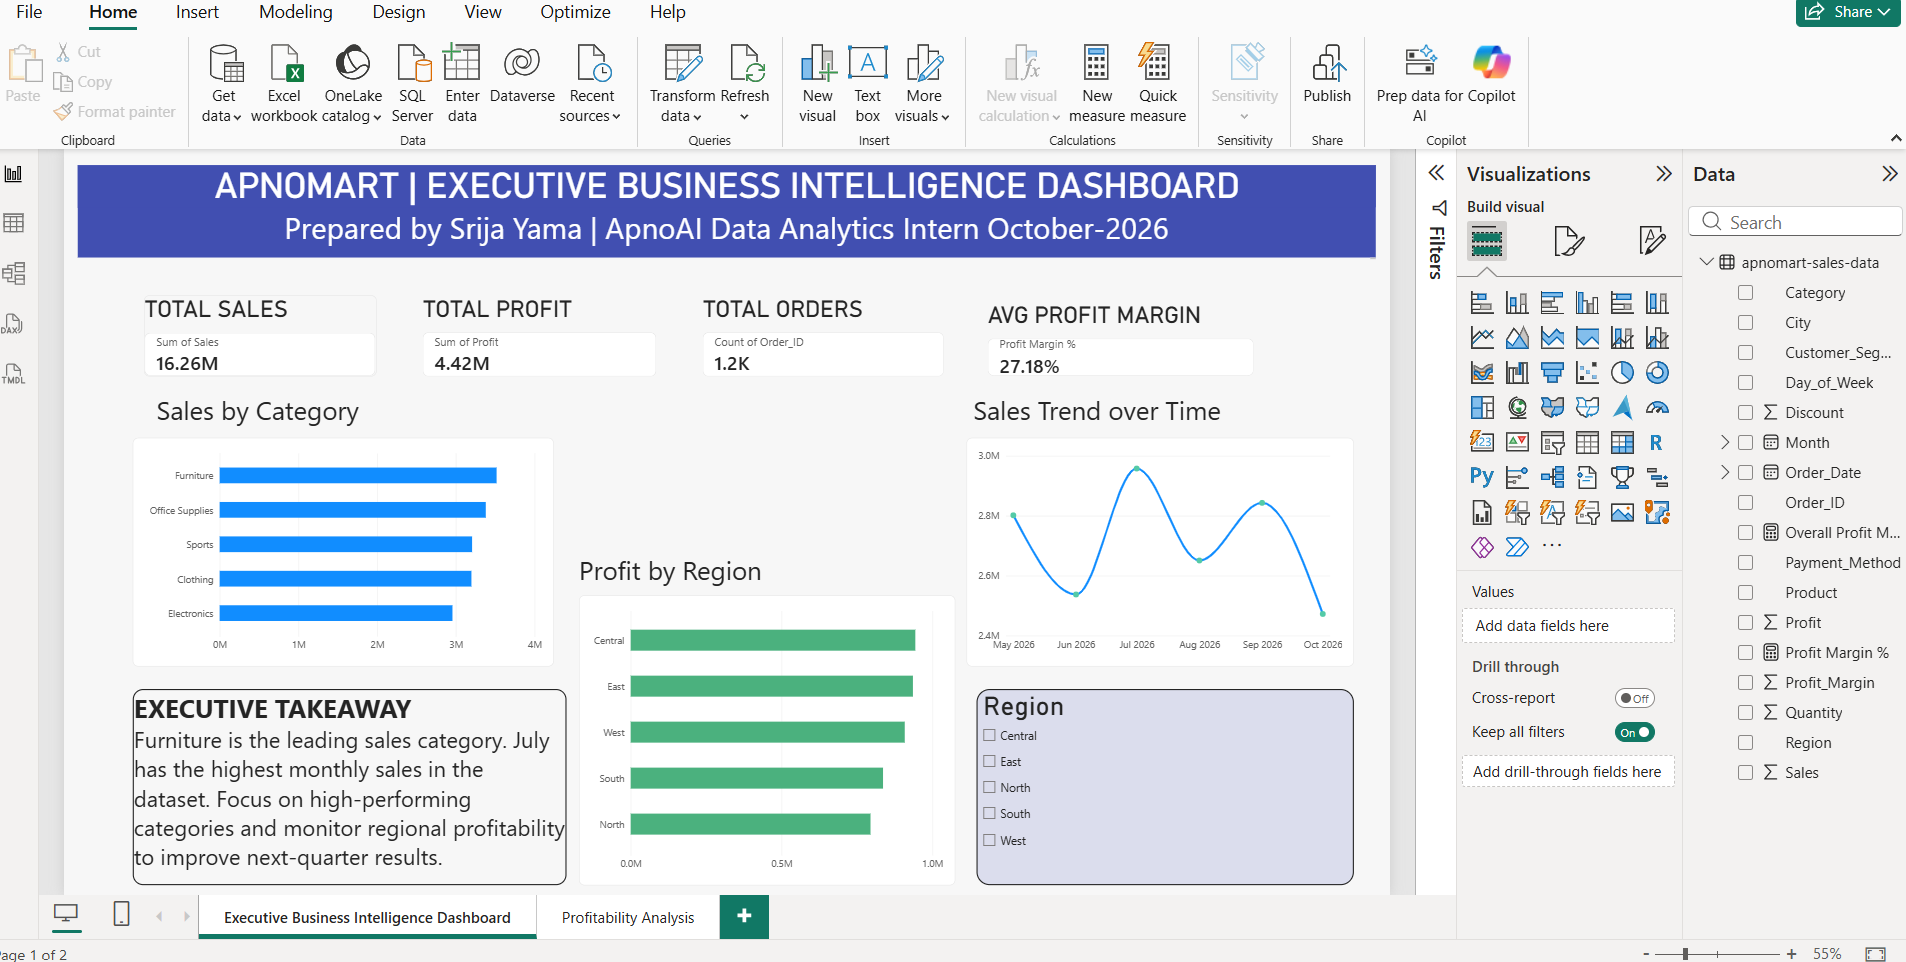

The dashboard page shown, as its layout file describes it:
{"tool":"powerbi","page":{"name":"Executive Business Intelligence Dashboard","canvas":[1920,1080],"ordinal":0},"visuals":[{"type":"cardVisual","title":"TOTAL SALES","fields":{"Data":["Sum(apnomart-sales-data.Sales)"]},"box":[115.8,211.7,336.6,117.6],"z":0},{"type":"cardVisual","title":"TOTAL PROFIT","fields":{"Data":["Sum(apnomart-sales-data.Profit)"]},"box":[519.4,211.7,338.4,117.6],"z":1},{"type":"cardVisual","title":"TOTAL ORDERS","fields":{"Data":["CountNonNull(apnomart-sales-data.Order_ID)"]},"box":[924.7,211.7,349.3,117.6],"z":3},{"type":"cardVisual","title":"AVG PROFIT MARGIN","fields":{"Data":["apnomart-sales-data.Profit Margin %"]},"box":[1337.3,220.8,385.5,108.6],"z":4},{"type":"textbox","title":"APNOMART | EXECUTIVE BUSINESS INTELLIGENCE DASHBOARD","box":[26.8,37,1879.3,135.8],"z":5},{"type":"textbox","box":[1770,71,150,150],"z":6},{"type":"textbox","box":[133.9,352.9,1635.9,94.1],"z":7},{"type":"clusteredBarChart","fields":{"Category":["apnomart-sales-data.Category"],"Y":["Sum(apnomart-sales-data.Sales)"]},"box":[99.5,418,609.9,331.2],"z":8},{"type":"lineChart","fields":{"Category":["apnomart-sales-data.Month.Variation.Date Hierarchy.Year","apnomart-sales-data.Month.Variation.Date Hierarchy.Quarter","apnomart-sales-data.Month.Variation.Date Hierarchy.Month","apnomart-sales-data.Month.Variation.Date Hierarchy.Day"],"Y":["Sum(apnomart-sales-data.Sales)"]},"box":[1306.6,418,561,331.2],"z":10},{"type":"textbox","box":[1576,668,194,277],"z":11},{"type":"clusteredBarChart","fields":{"Category":["apnomart-sales-data.Region"],"Y":["Sum(apnomart-sales-data.Profit)"]},"box":[745.6,646,544.7,419.8],"z":12},{"type":"textbox","box":[1770,782,150,284],"z":13},{"type":"textbox","box":[745.6,584.5,1122,327.5],"z":14},{"type":"slicer","fields":{"Values":["apnomart-sales-data.Region"]},"box":[1321.1,781.8,546.5,284.1],"z":16},{"type":"textbox","box":[1770,221,150,150],"z":17},{"type":"textbox","box":[100,782,628,284],"z":18}]}

Visuals, with their boxes on the page's 1920x1080 design canvas (x1, y1, x2, y2). These are canvas units, not pixel positions in the 1906x962 screenshot, which may show the page scaled, cropped or inside an application window:
"TOTAL SALES" cardVisual: x1=116 y1=212 x2=452 y2=329
"TOTAL PROFIT" cardVisual: x1=519 y1=212 x2=858 y2=329
"TOTAL ORDERS" cardVisual: x1=925 y1=212 x2=1274 y2=329
"AVG PROFIT MARGIN" cardVisual: x1=1337 y1=221 x2=1723 y2=329
"APNOMART | EXECUTIVE BUSINESS INTELLIGENCE DASHBOARD" textbox: x1=27 y1=37 x2=1906 y2=173
textbox: x1=1770 y1=71 x2=1920 y2=221
textbox: x1=134 y1=353 x2=1770 y2=447
clusteredBarChart - apnomart-sales-data.Category x Sum(apnomart-sales-data.Sales): x1=100 y1=418 x2=709 y2=749
lineChart - apnomart-sales-data.Month.Variation.Date Hierarchy.Year x apnomart-sales-data.Month.Variation.Date Hierarchy.Quarter: x1=1307 y1=418 x2=1868 y2=749
textbox: x1=1576 y1=668 x2=1770 y2=945
clusteredBarChart - apnomart-sales-data.Region x Sum(apnomart-sales-data.Profit): x1=746 y1=646 x2=1290 y2=1066
textbox: x1=1770 y1=782 x2=1920 y2=1066
textbox: x1=746 y1=584 x2=1868 y2=912
slicer - apnomart-sales-data.Region: x1=1321 y1=782 x2=1868 y2=1066
textbox: x1=1770 y1=221 x2=1920 y2=371
textbox: x1=100 y1=782 x2=728 y2=1066
